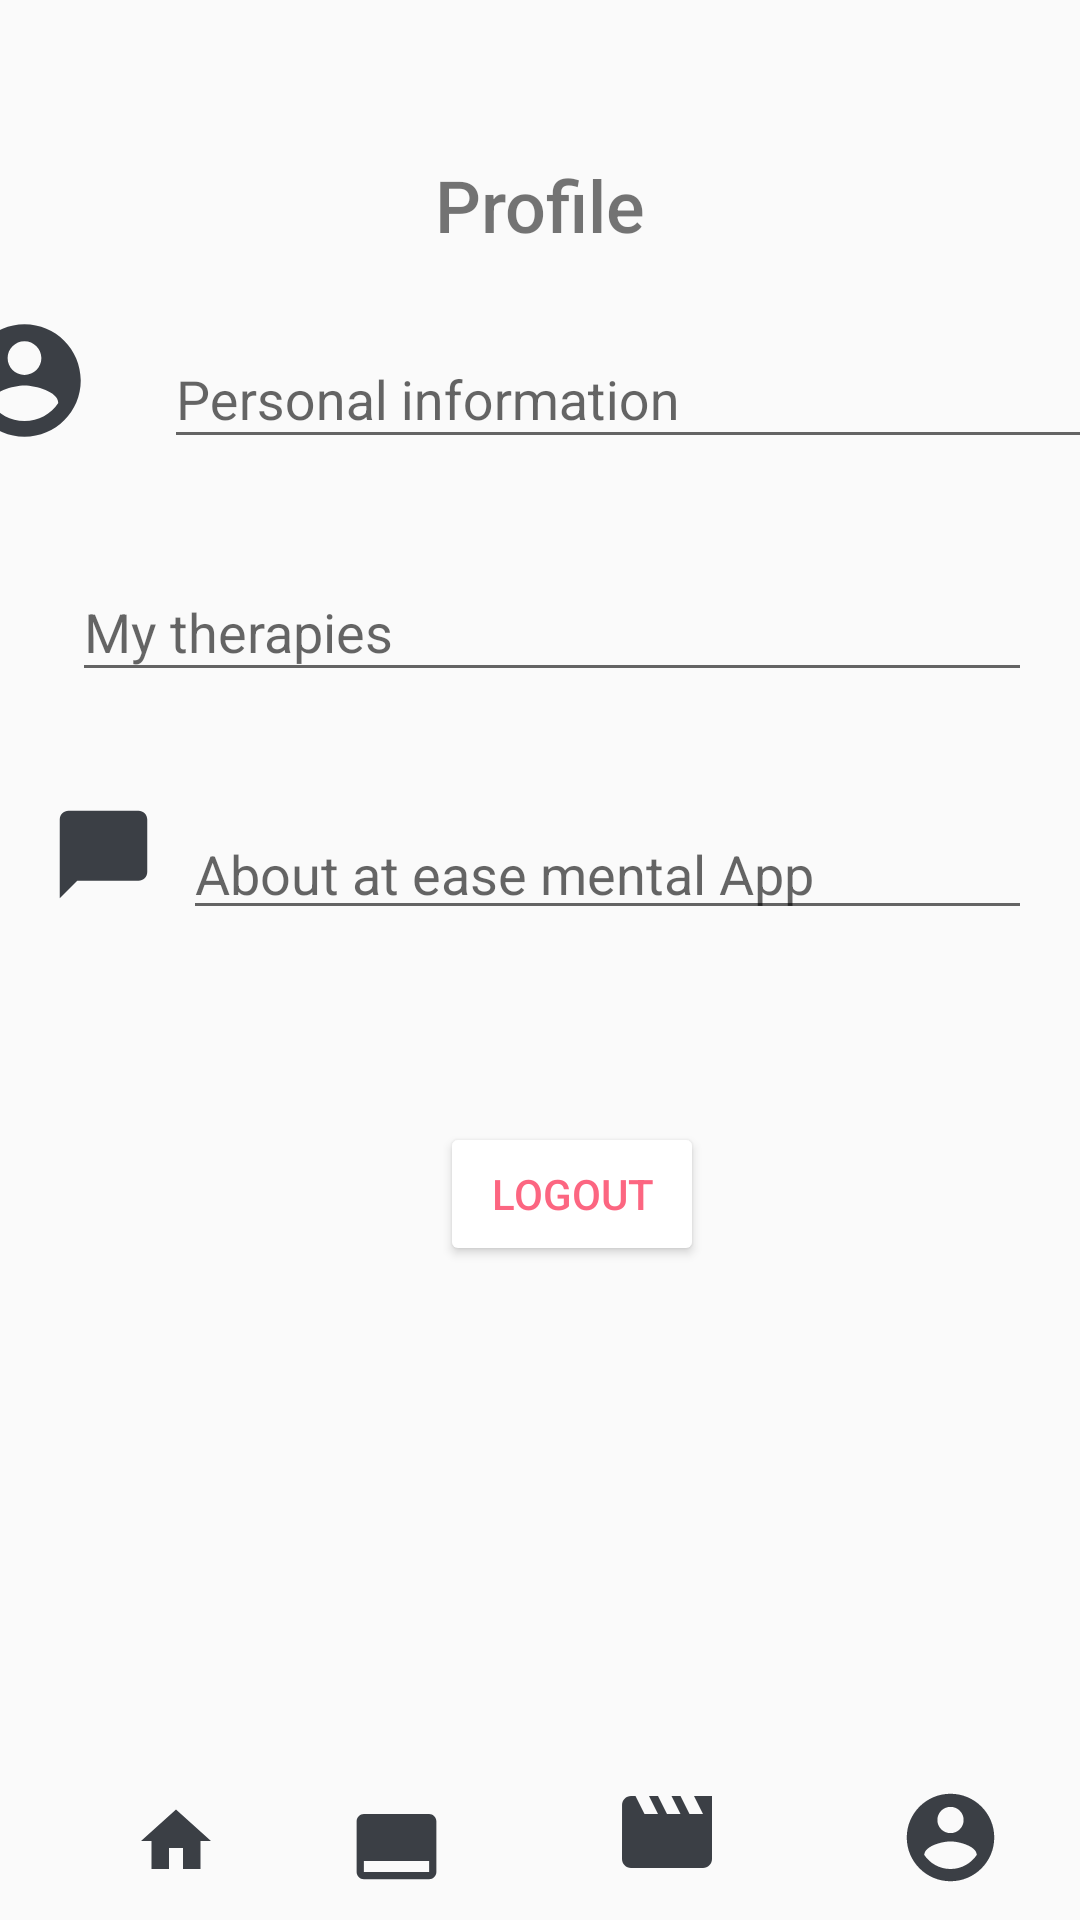

Screen size 1080w x 1920h. Icon name, then its center in pixels as [x,y]:
call to action: [396,1847]
chat bubble: [103,854]
home: [176,1839]
movie: [667,1832]
